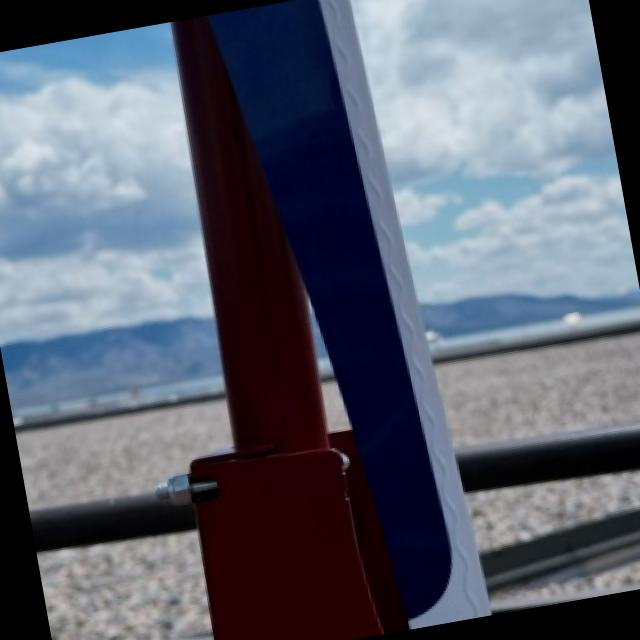healthy: (172, 0, 491, 640)
